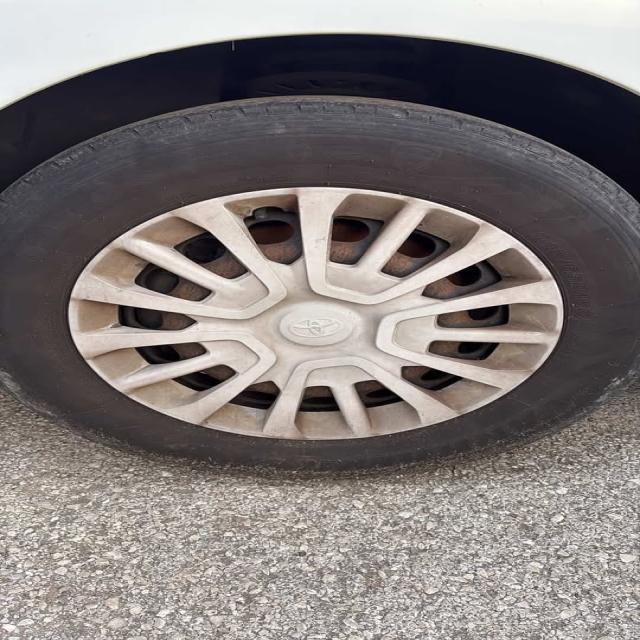jante: (68, 187, 566, 441)
roda: (0, 93, 640, 471)
